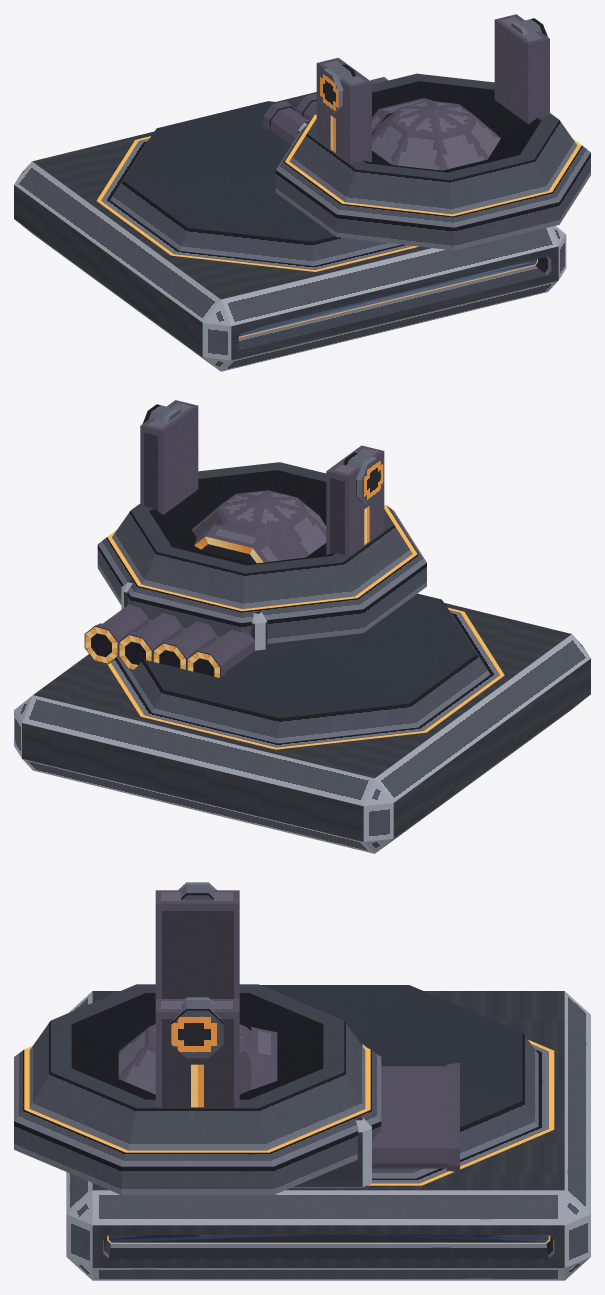
The model's file is marlit_shotgun.glb.
3 renders of one model, top to bottom at view 1: azimuth 30°, elevation 25°; view 2: azimuth 150°, elevation 25°; view 3: azimuth 270°, elevation 25°, orthographic. The views are drawn at different scales.
Parts seen in each view (by area): view 1: marlit_shotgun_base, marlit_shotgun_yaw, marlit_shotgun_head; view 2: marlit_shotgun_base, marlit_shotgun_yaw, marlit_shotgun_head; view 3: marlit_shotgun_base, marlit_shotgun_yaw, marlit_shotgun_head.
Boxes of the visible parts, bbox=[...] form: marlit_shotgun_base: bbox=[14, 92, 566, 371]; marlit_shotgun_yaw: bbox=[275, 14, 590, 250]; marlit_shotgun_head: bbox=[263, 77, 500, 170]; marlit_shotgun_base: bbox=[14, 593, 590, 853]; marlit_shotgun_yaw: bbox=[97, 400, 426, 643]; marlit_shotgun_head: bbox=[84, 490, 326, 677]; marlit_shotgun_base: bbox=[66, 985, 590, 1280]; marlit_shotgun_yaw: bbox=[14, 882, 381, 1195]; marlit_shotgun_head: bbox=[118, 1024, 459, 1187].
Bounding box in the file's own units: 2.2 × 1.22 × 2.2.
Materials: 1 (1 with a texture image).
